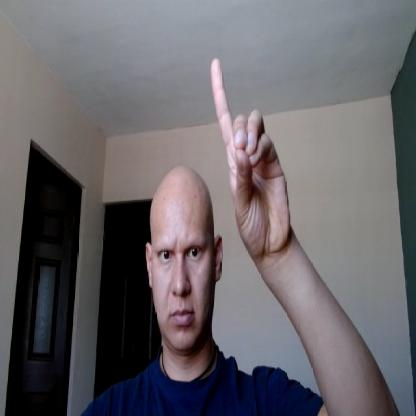D: (210, 58, 291, 254)
